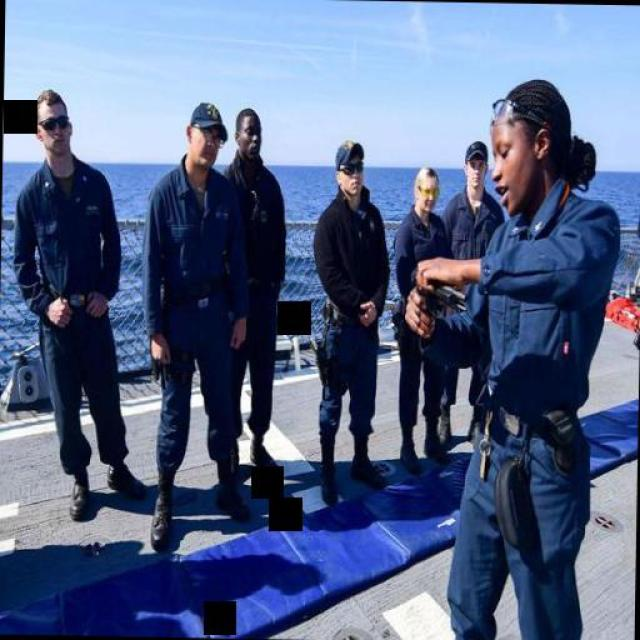gun: (408, 259, 467, 330)
